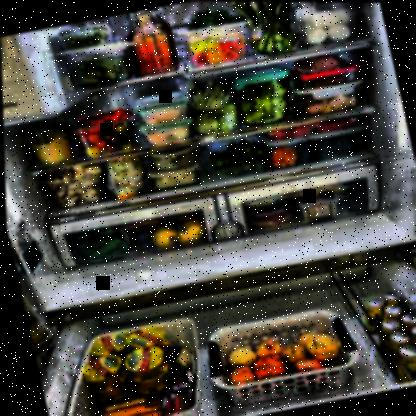blueberries: (314, 134, 360, 159)
broccoli: (236, 80, 290, 125)
cucumber: (236, 137, 253, 154), (210, 150, 225, 168), (248, 139, 263, 156), (224, 141, 238, 157), (222, 152, 233, 165), (230, 154, 243, 164), (243, 151, 254, 162)
eggs: (324, 20, 351, 41), (307, 26, 328, 43)
lemon: (173, 217, 207, 244), (147, 223, 177, 248)
tomato: (85, 130, 103, 145), (99, 123, 114, 136), (106, 113, 122, 123)
